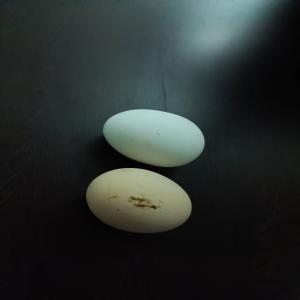Egg: (84, 158, 196, 238), (106, 101, 212, 165)
